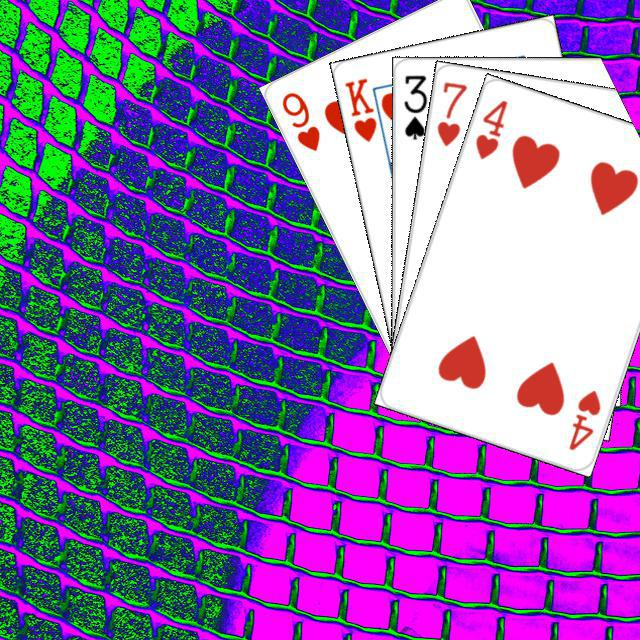3s: (398, 70, 429, 141)
4h: (470, 95, 510, 161), (564, 385, 603, 452)
7h: (432, 76, 469, 148)
9h: (276, 87, 322, 154)
Kh: (340, 73, 389, 147)
